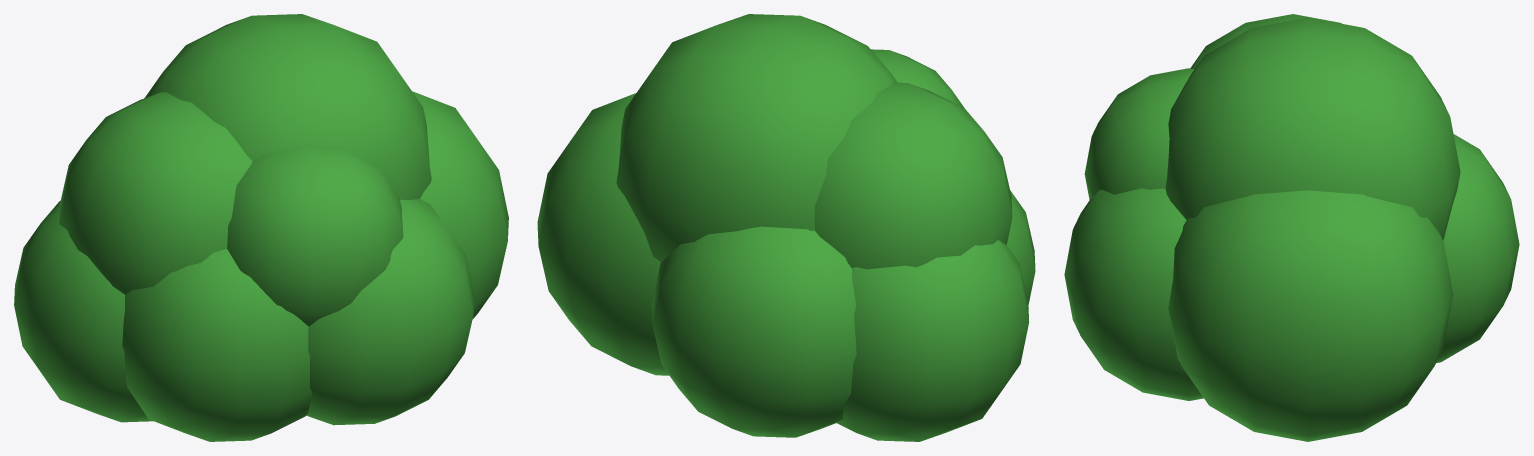
Rendered from env_bush.fbx.
The picture shows the model from 3 angles, left to right: view 1: azimuth 30°, elevation 25°; view 2: azimuth 150°, elevation 25°; view 3: azimuth 270°, elevation 25°; orthographic projection. The views are drawn at different scales.
Parts seen in each view (by area): view 1: env_bush; view 2: env_bush; view 3: env_bush.
Part boxes in pixels (x1,y1,x2,y2): env_bush: (14, 14, 508, 441); env_bush: (537, 14, 1035, 441); env_bush: (1064, 14, 1519, 441).
Bounding box in the file's own units: 13.45 × 10.1 × 11.61.
